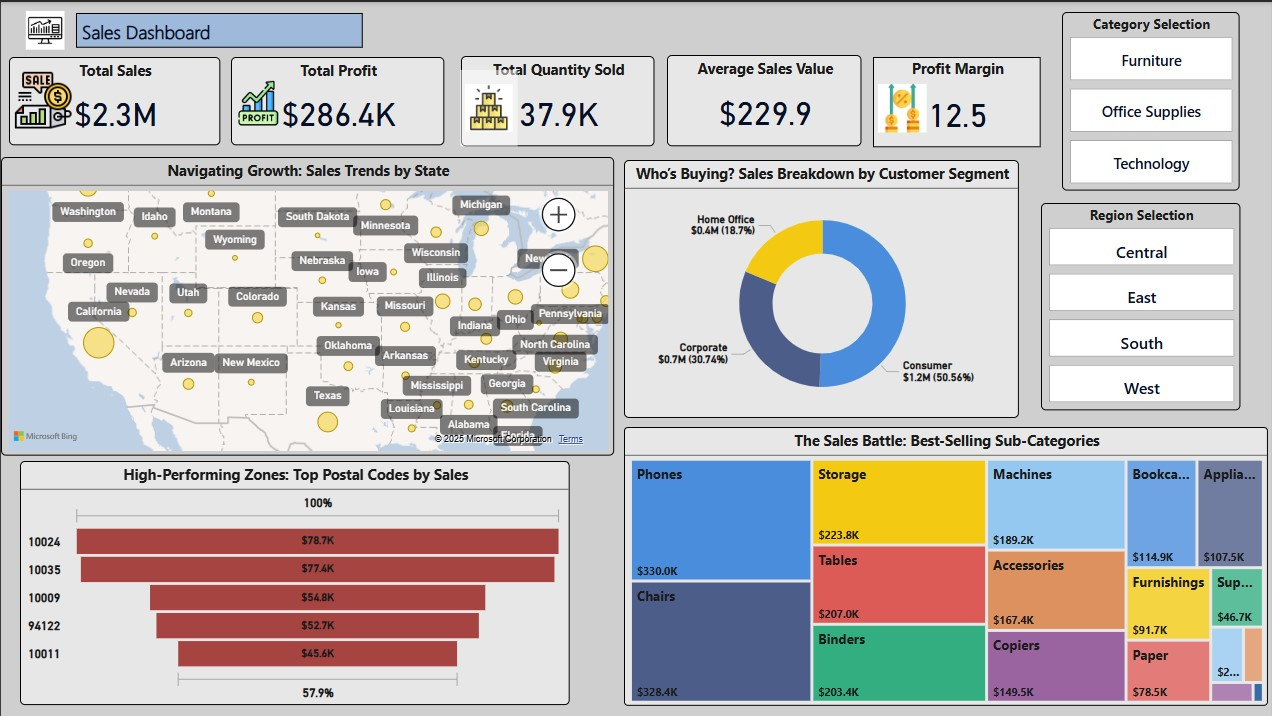

This screenshot's page, from the dashboard's own definition file:
{"tool":"powerbi","page":{"name":"Page 1","canvas":[1280,720],"ordinal":0},"visuals":[{"type":"card","title":"Total Sales","fields":{"Values":["Measures (2).Total_Sales"]},"box":[8.1,55.8,212.6,89.4],"z":0},{"type":"card","title":"Total Profit","fields":{"Values":["Measures (2).Total_Profit"]},"box":[232.3,55.8,214.9,89.4],"z":1000},{"type":"card","title":"Total Quantity Sold","fields":{"Values":["Measures (2).Total_Quantity"]},"box":[463.4,54.6,195.1,90.6],"z":2000},{"type":"card","title":"Average Sales Value","fields":{"Values":["Measures (2).Average_Sales"]},"box":[671.4,53.4,196.3,91.8],"z":3000},{"type":"card","title":"Profit Margin","fields":{"Values":["Measures (2).Profit Margin %"]},"box":[879.1,55.1,168.9,90.7],"z":4000},{"type":"advancedSlicerVisual","title":"Category Selection","fields":{"Values":["SampleSuperstore1.Category"]},"box":[1069.8,10.5,178.9,180],"z":5000},{"type":"treemap","title":"The Sales Battle: Best-Selling Sub-Categories","fields":{"Group":["SampleSuperstore1.Sub-Category"],"Values":["Measures (2).Total_Sales"]},"box":[627.6,428.4,648.9,280.9],"z":6000},{"type":"map","title":"Navigating Growth: Sales Trends by State","fields":{"Category":["SampleSuperstore1.State"],"Size":["Measures (2).Total_Sales"]},"box":[0,156.6,617.6,301.3],"z":7000},{"type":"advancedSlicerVisual","title":"Region Selection","fields":{"Values":["SampleSuperstore1.Region"]},"box":[1048,203,201,209],"z":8000},{"type":"donutChart","title":"Who’s Buying? Sales Breakdown by Customer Segment","fields":{"Category":["SampleSuperstore1.Segment"],"Y":["Measures (2).Total_Sales"]},"box":[627.5,159.6,398.1,260.4],"z":9000},{"type":"funnel","title":"High-Performing Zones: Top Postal Codes by Sales","fields":{"Category":["SampleSuperstore1.Postal Code"],"Y":["Measures (2).Total_Sales"]},"box":[19.6,463.1,553.8,246.2],"z":10000},{"type":"textbox","box":[75.6,10.7,288.9,34.7],"z":11000},{"type":"image","box":[8.1,53.4,60.5,90.7],"z":12000},{"type":"image","box":[232,60.4,55.1,83.6],"z":13000},{"type":"image","box":[462.9,68.8,57.9,76.8],"z":14000},{"type":"image","box":[879.1,68.4,58.7,77.3],"z":15000},{"type":"image","box":[0,4.4,89.8,48.9],"z":16000}]}

Visuals, with their boxes in screenshot pixels (x1, y1, x2, y2), scaled from the page's 1280x720 canvas onto the 1272x716 screenshot:
"Total Sales" card: (8, 55, 219, 144)
"Total Profit" card: (231, 55, 444, 144)
"Total Quantity Sold" card: (461, 54, 654, 144)
"Average Sales Value" card: (667, 53, 862, 144)
"Profit Margin" card: (874, 55, 1041, 145)
"Category Selection" advancedSlicerVisual: (1063, 10, 1241, 189)
"The Sales Battle: Best-Selling Sub-Categories" treemap: (624, 426, 1269, 705)
"Navigating Growth: Sales Trends by State" map: (0, 156, 614, 455)
"Region Selection" advancedSlicerVisual: (1041, 202, 1241, 410)
"Who’s Buying? Sales Breakdown by Customer Segment" donutChart: (624, 159, 1019, 418)
"High-Performing Zones: Top Postal Codes by Sales" funnel: (19, 461, 570, 705)
textbox: (75, 11, 362, 45)
image: (8, 53, 68, 143)
image: (231, 60, 285, 143)
image: (460, 68, 518, 145)
image: (874, 68, 932, 145)
image: (0, 4, 89, 53)
